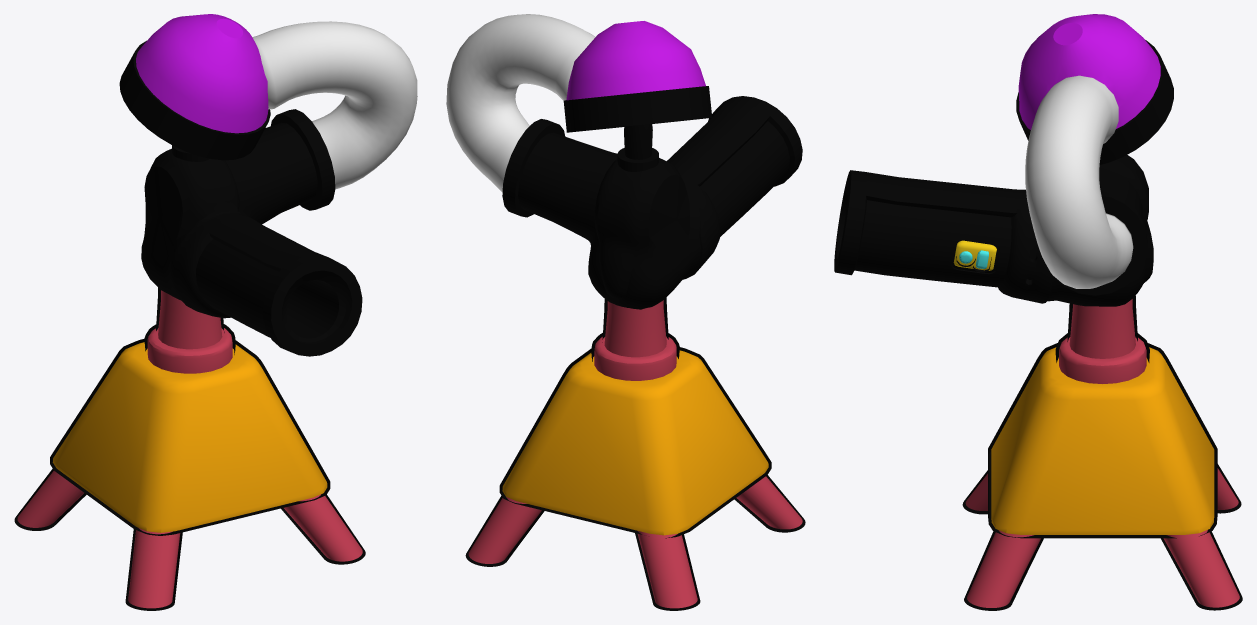
Rendered from cannon.fbx.
3 views of the same model, side by side, from view 1: azimuth 30°, elevation 25°; view 2: azimuth 150°, elevation 25°; view 3: azimuth 270°, elevation 25° (orthographic). The views are drawn at different scales.
Visible parts, largest first — view 1: Cube.003, BezierCurve, Cube.002; view 2: Cube.003, BezierCurve, Cube.002; view 3: Cube.003, BezierCurve, Cube.002.
Boxes of the visible parts, <box> form: Cube.003: <box>14,40,365,610</box>; BezierCurve: <box>252,21,417,189</box>; Cube.002: <box>136,14,268,133</box>; Cube.003: <box>465,86,805,610</box>; BezierCurve: <box>446,14,595,192</box>; Cube.002: <box>566,21,705,100</box>; Cube.003: <box>834,40,1242,610</box>; BezierCurve: <box>1025,75,1133,288</box>; Cube.002: <box>1018,14,1160,130</box>.
Size of the model in its own units: 561 by 863 by 596.
Materials: 2 (1 with a texture image).
